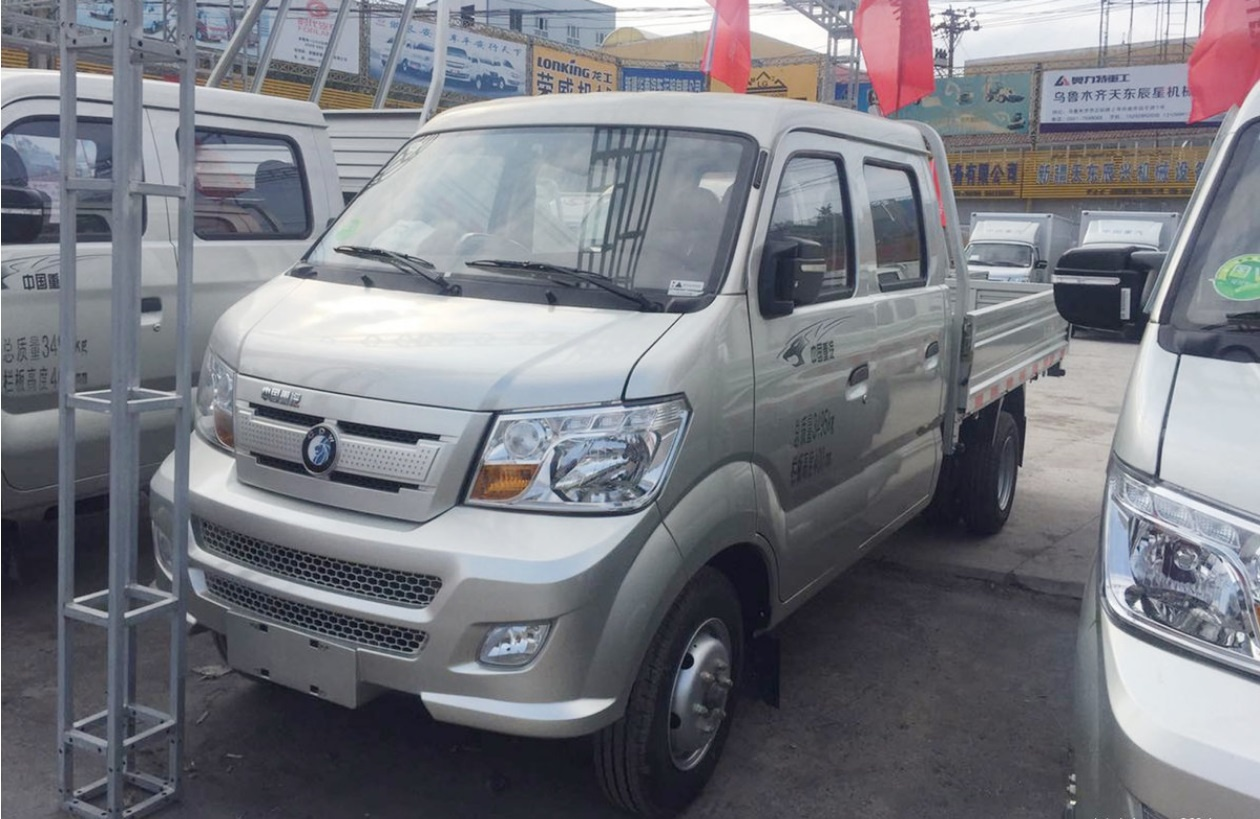truck: (171, 88, 1053, 781)
